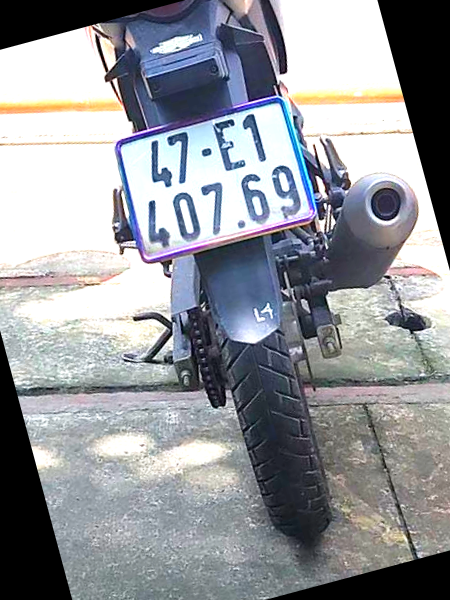number: (117, 98, 313, 260)
